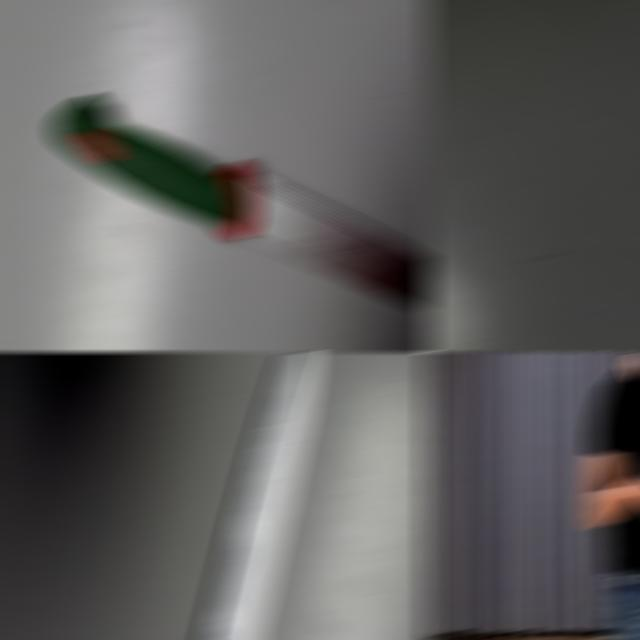Knife: (51, 94, 434, 311), (202, 352, 318, 640)
Knife_Handle: (630, 401, 640, 494)
